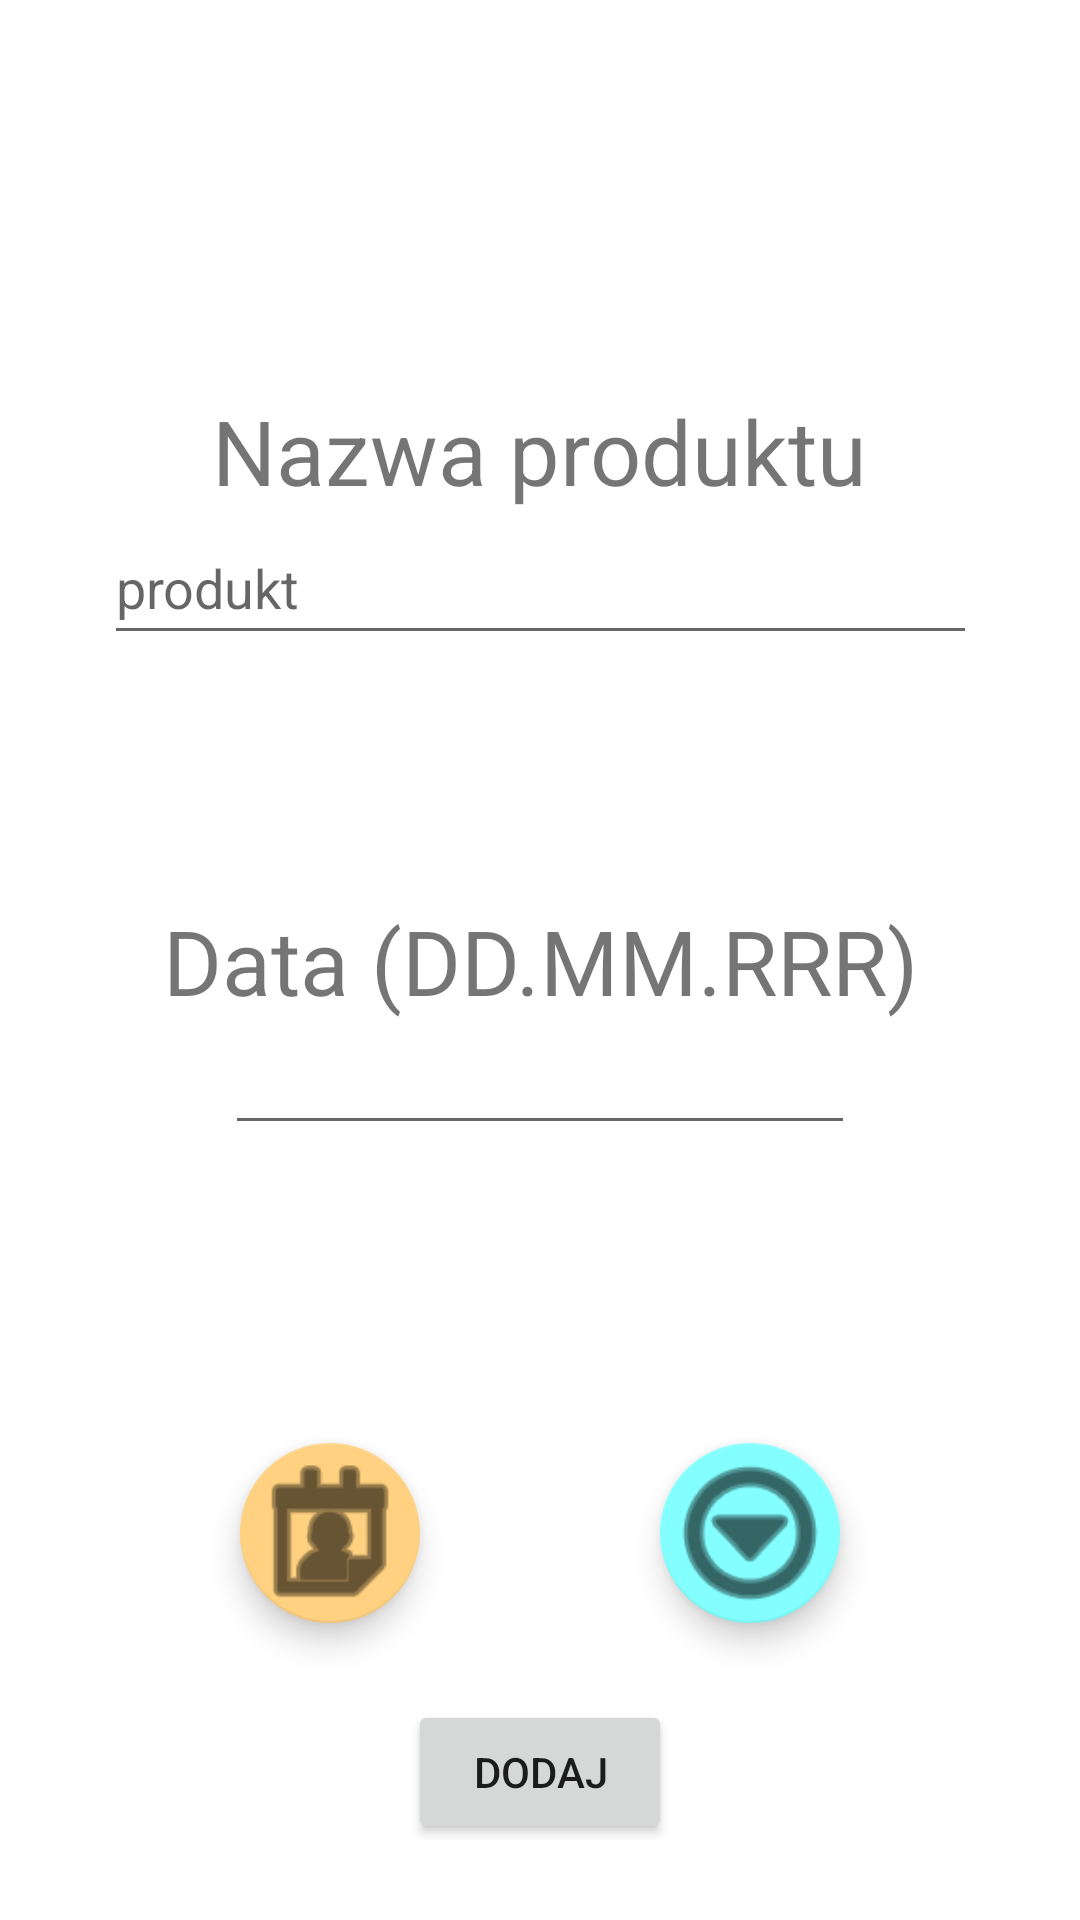

Where icons sit on this 1080*1920 app screen, as (x1, y1, x2, y2):
calendar: (240, 1443, 420, 1623)
more: (660, 1443, 840, 1623)
